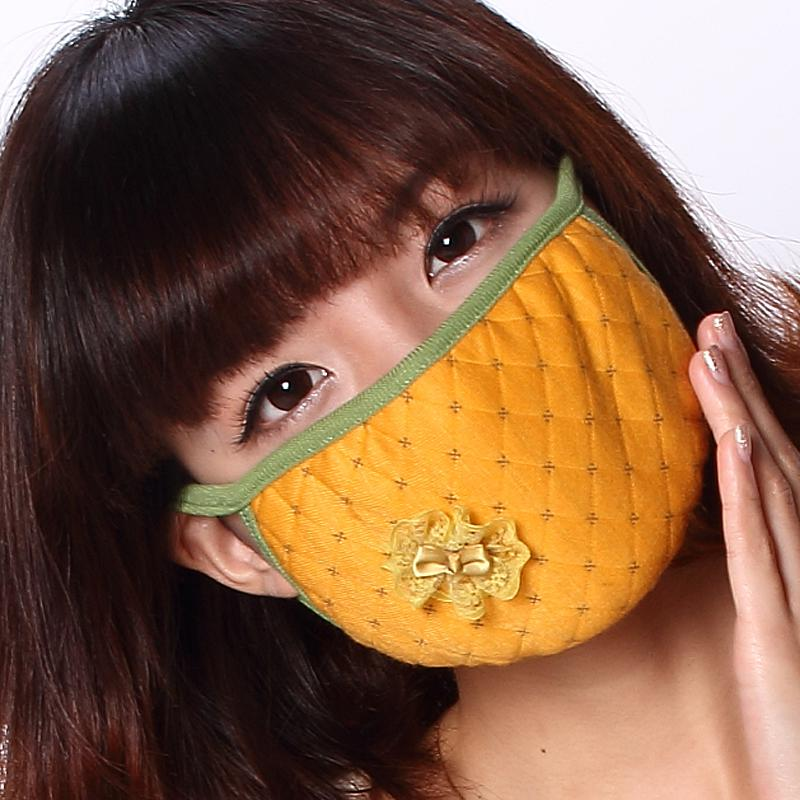OK: (176, 109, 728, 661)
